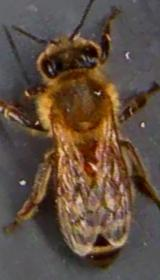varroa_mite: (80, 156, 100, 178)
